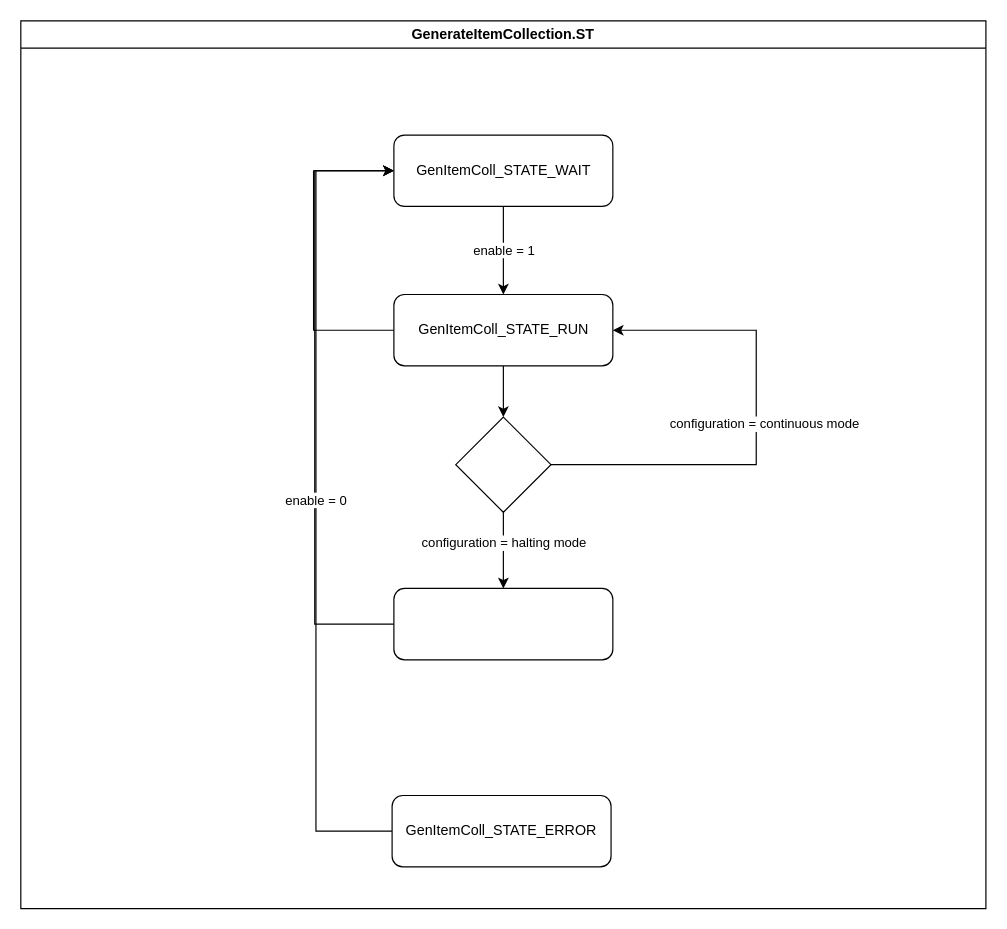
The diagram is 1007 pixels wide and 929 high, and some of its shapes have lost their labels. Here are the shapes that lost their labels. From the top down, the centre of each, then its label:
[503,464]: IF
[503,623]: GenItemColl_STATE_DONE
